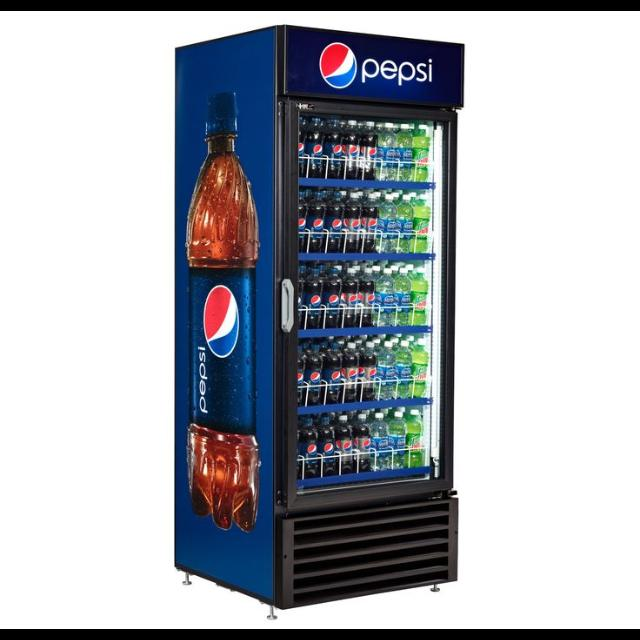Cooling-Display: (160, 17, 480, 619)
